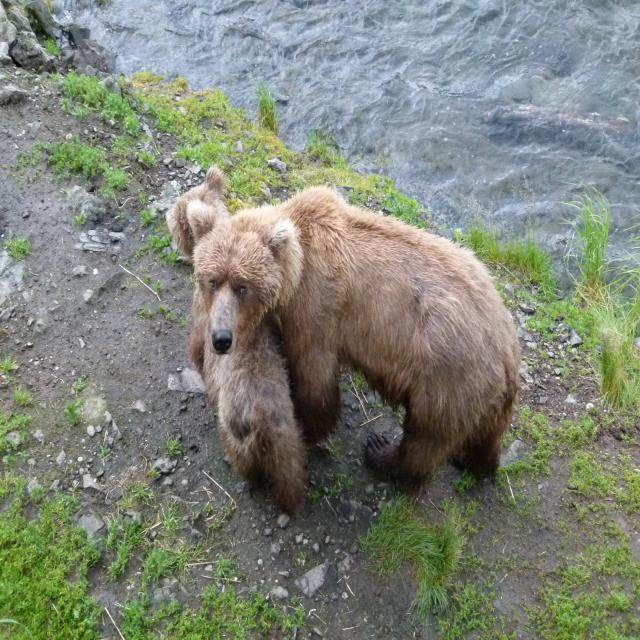bear face: (189, 205, 517, 492), (163, 169, 304, 522)
